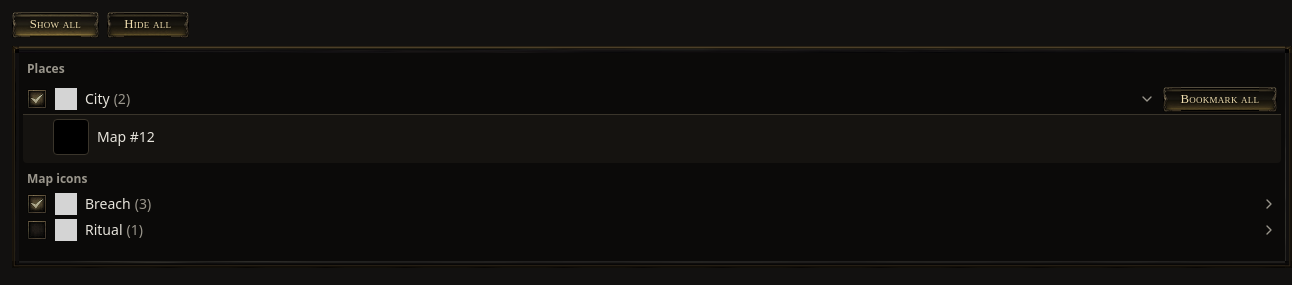
Test: TypeList › a type listed opens its results within the list, under it; clicked again it folds
This screenshot has width=1292, height=285.
Expected: the text "Places" is shown, 27,60 -> 65,77
Expected: the button "Map #12" is shown, 47,115 -> 1281,159
Click the button "City (2)". click: (97, 99)
box: 85,89 -> 1155,109
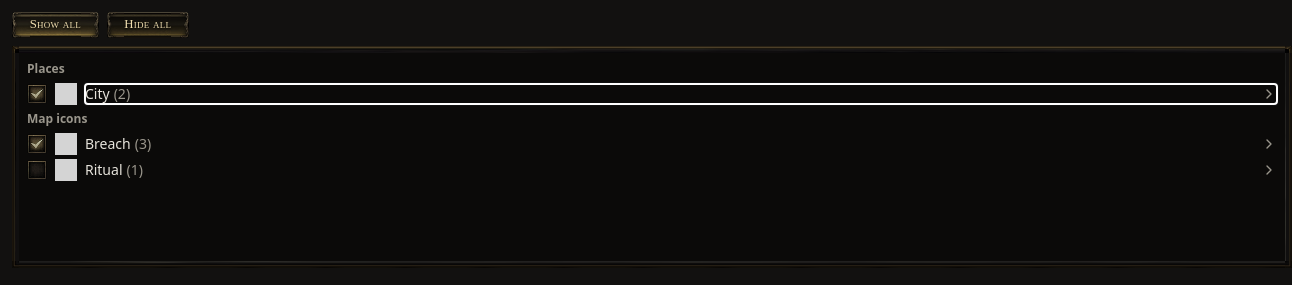
Now the button "Map #12" is gone
